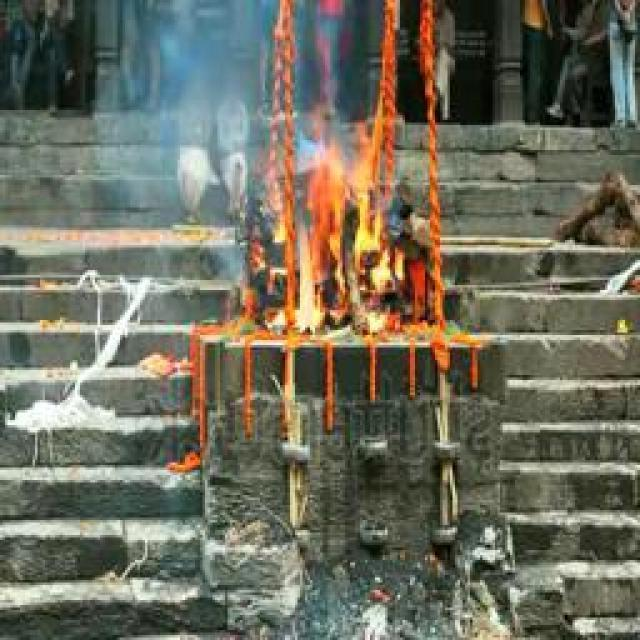Fire: (292, 103, 385, 340)
